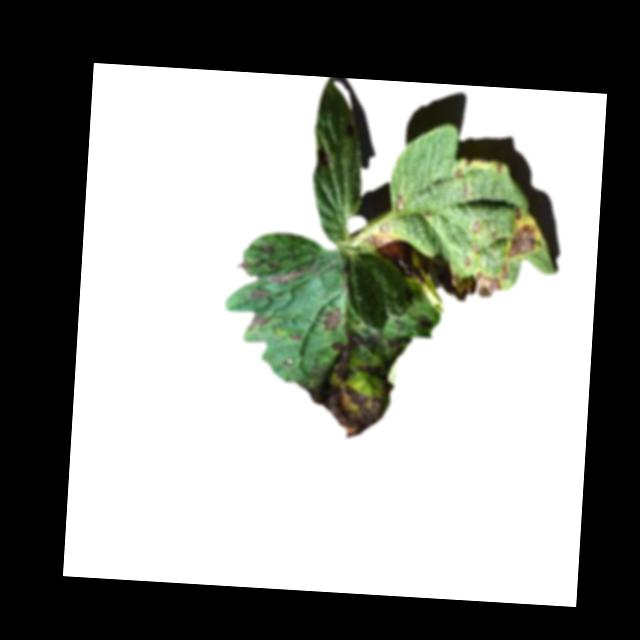Early_blight: (294, 335, 403, 444), (425, 256, 504, 303), (360, 222, 406, 269), (263, 261, 318, 288), (505, 224, 538, 263), (324, 309, 344, 336), (246, 314, 270, 332), (249, 288, 268, 305), (392, 193, 406, 212), (499, 261, 510, 282), (260, 244, 276, 257), (289, 333, 304, 345), (493, 161, 504, 177), (453, 169, 465, 181), (464, 157, 476, 168)
